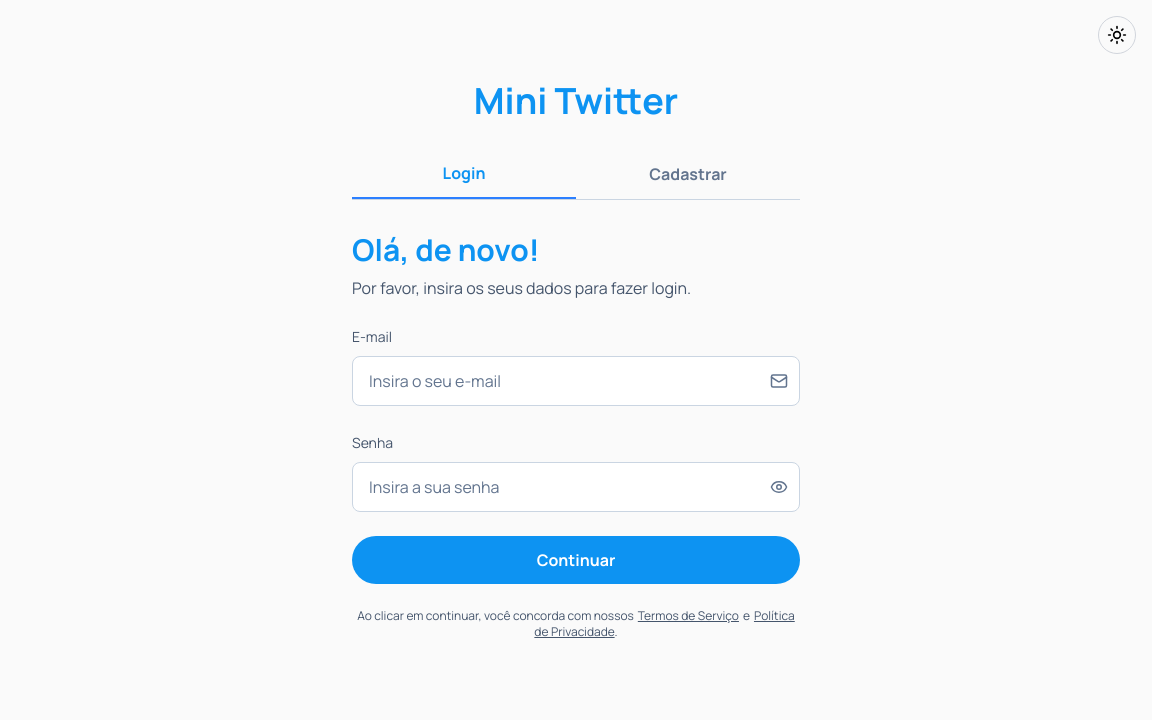
Scenario: Timeline (com login real) › should open and close post menu
The width and height of the screenshot is (1152, 720).
Type "vitor@email.com" into the field with placeholder "Insira o seu e-mail".
click(576, 381); type("vitor@email.com")  # box [352, 356, 800, 406]
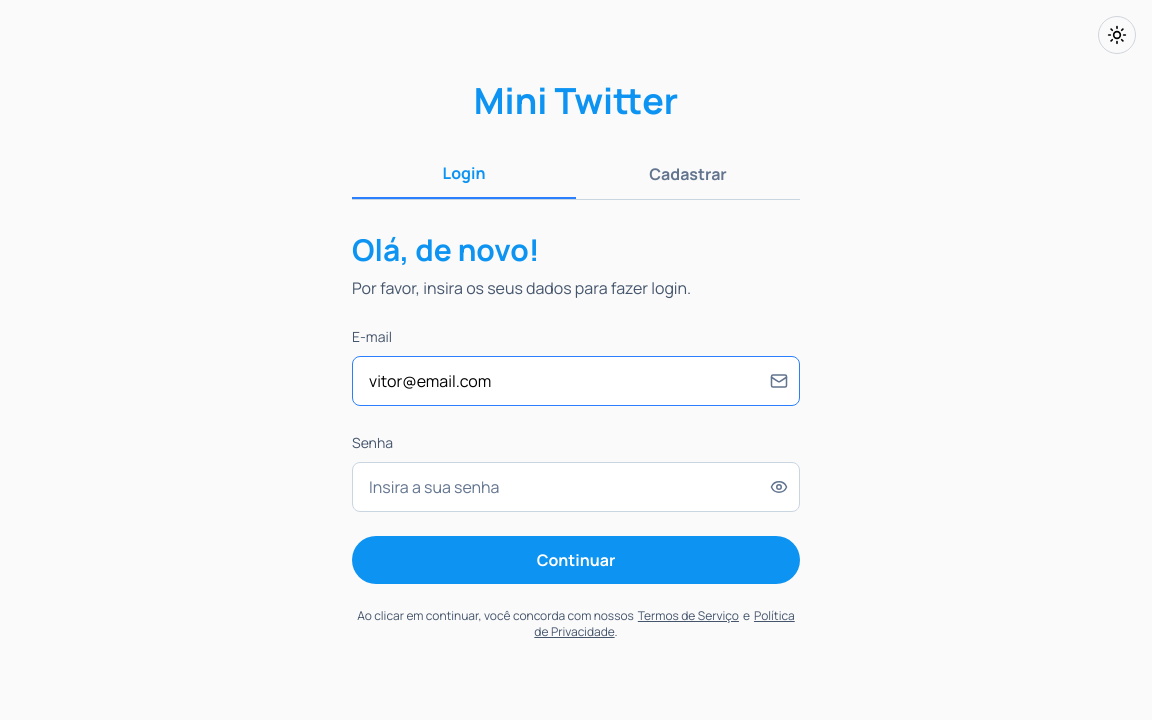
Type "123456" into the password field with placeholder "Insira a sua senha".
click(576, 487); type("123456")  # box [352, 462, 800, 512]
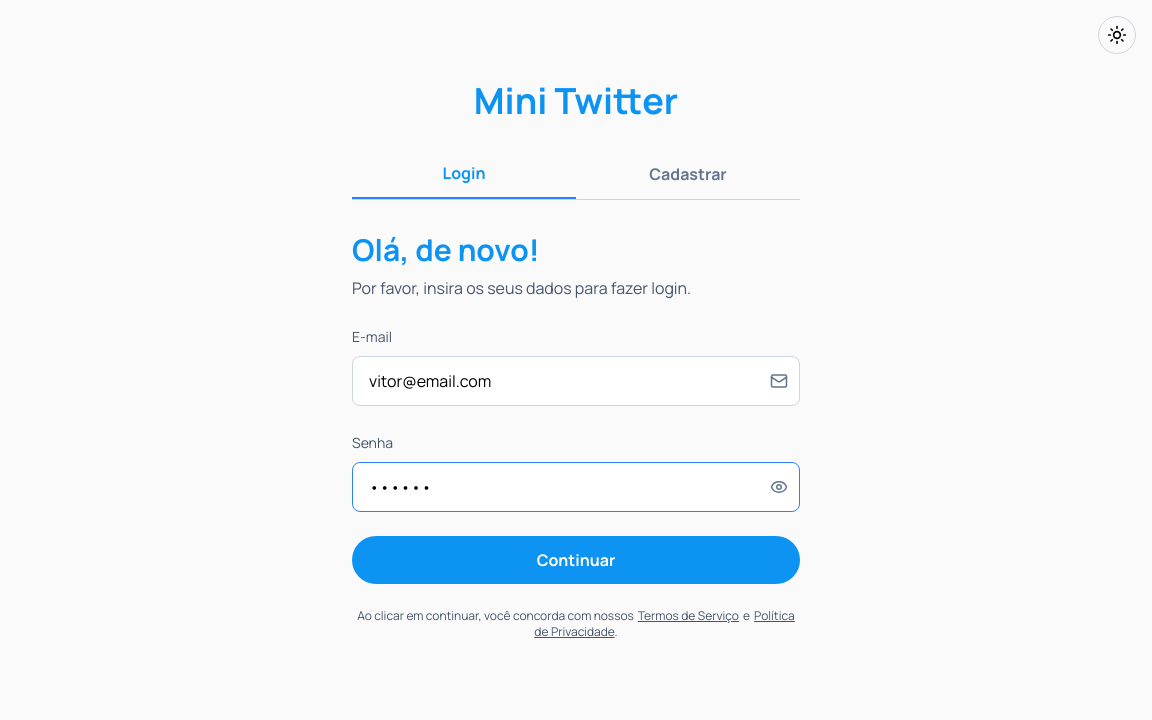
Click the submit button.
click(576, 560)  # box [352, 536, 800, 584]
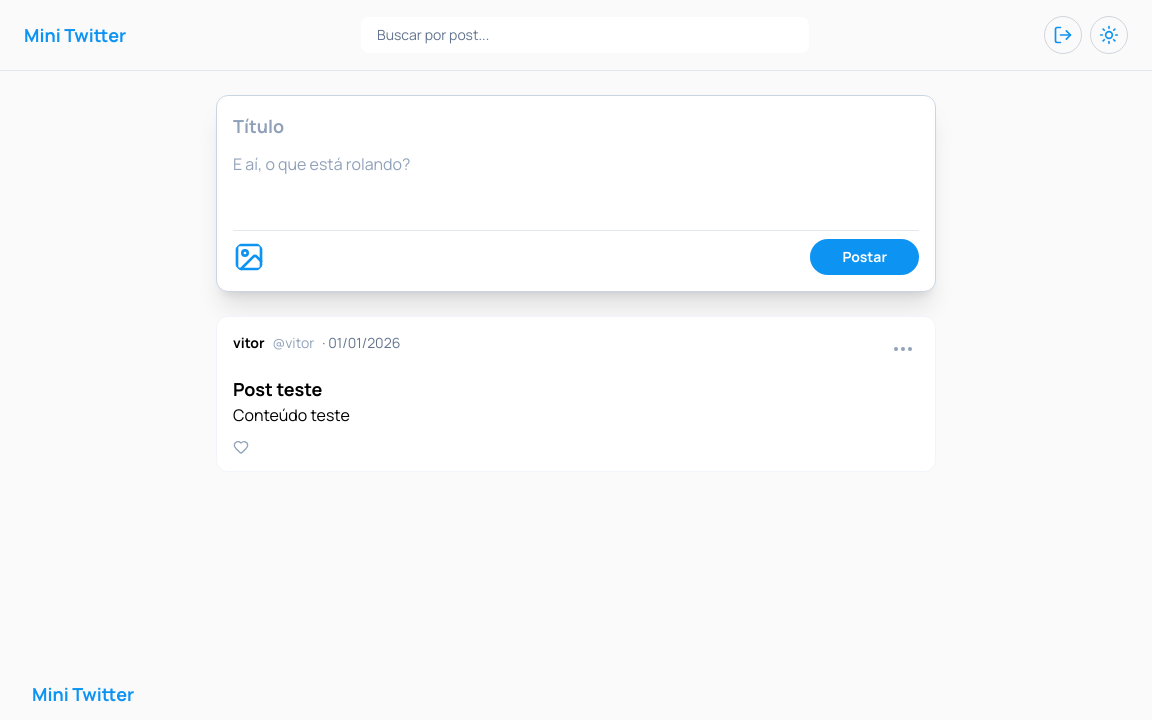
Open "/"
Result: the button named "menu" is shown
Click the button named "menu".
click(903, 349)  # box [887, 333, 919, 365]
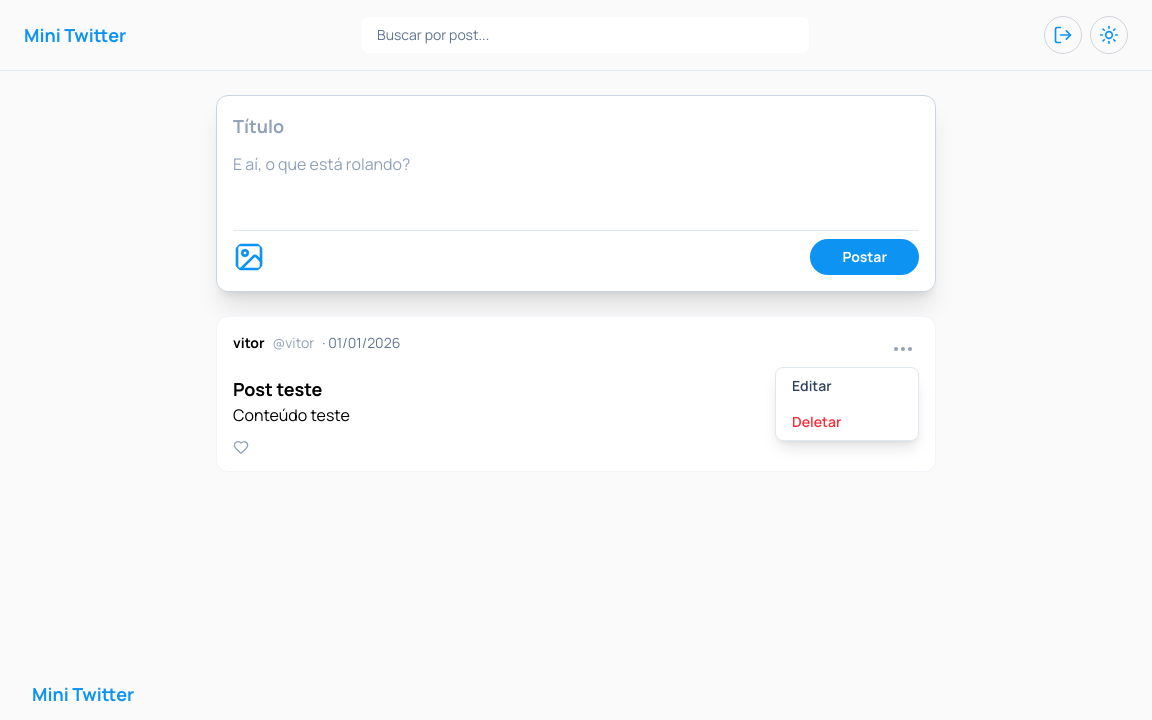
Result: the button "Editar" is shown at [776, 368, 918, 404]
Result: the button "Deletar" is shown at [776, 404, 918, 440]
Click the button named "menu".
click(903, 349)  # box [887, 333, 919, 365]
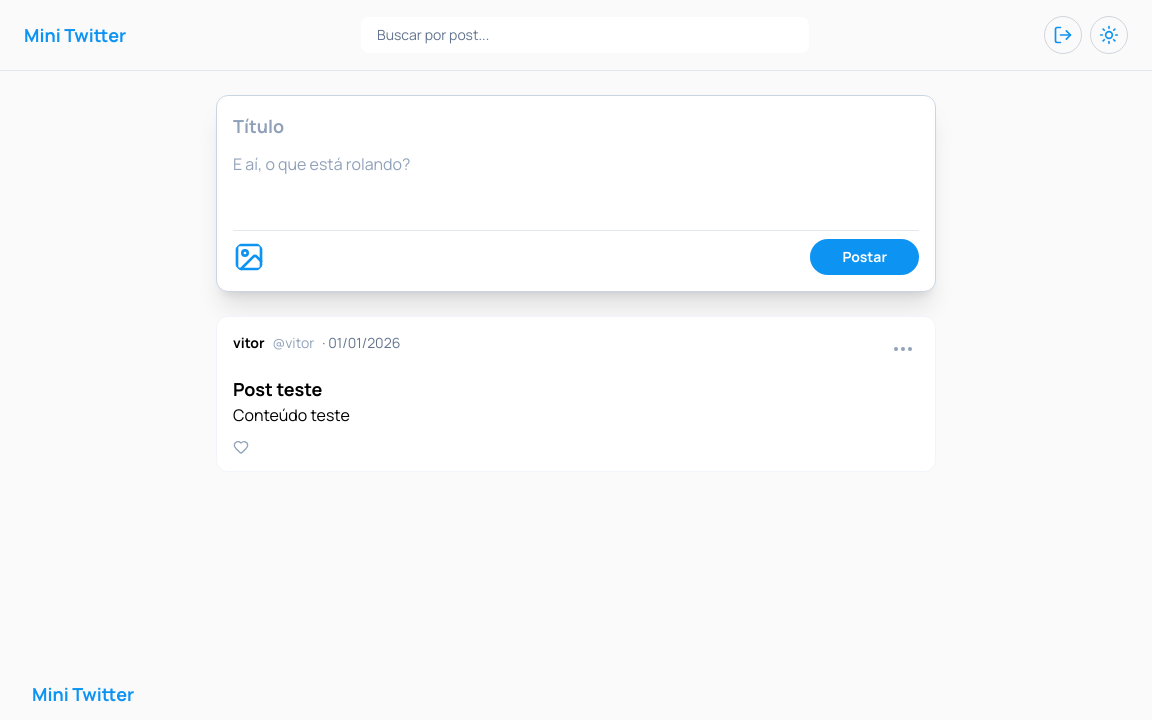
Result: the button "Editar" is gone
